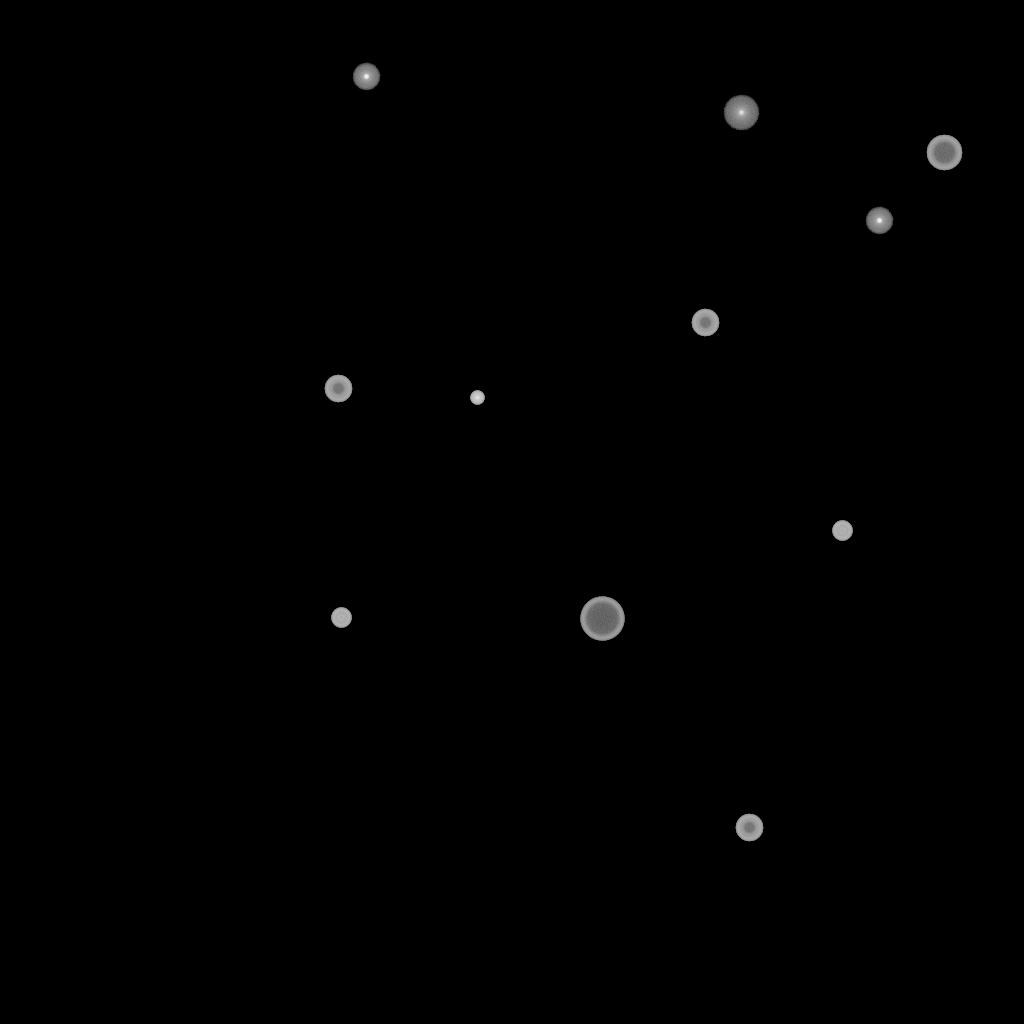depth:-10: (352, 63, 380, 91), (865, 207, 893, 235)
depth:-30: (470, 391, 484, 405)
depth:-40: (832, 521, 852, 541), (331, 608, 351, 628)
depth:-50: (324, 375, 352, 403), (735, 814, 763, 842), (691, 309, 719, 337)
depth:-60: (926, 135, 962, 171)
depth:-70: (580, 597, 624, 641)
depth:0: (723, 95, 759, 131)
